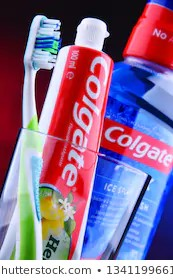colgate-Plax: (81, 1, 173, 257)
toothbrush: (11, 7, 62, 257)
